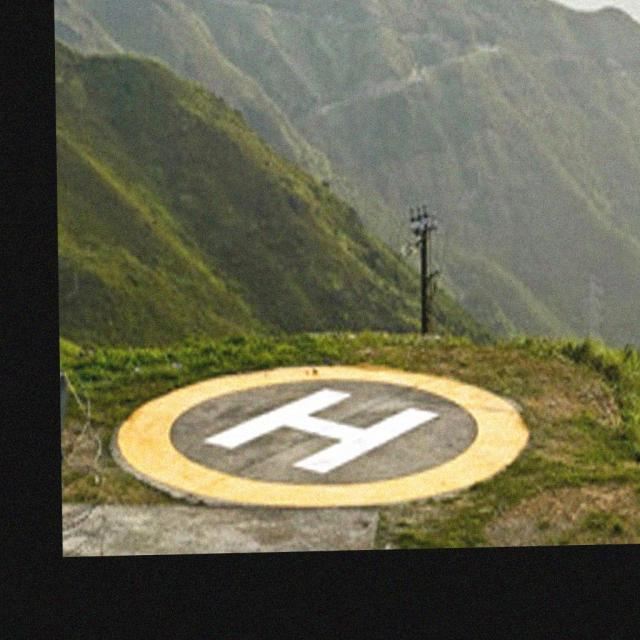helipad: (110, 357, 536, 514)
